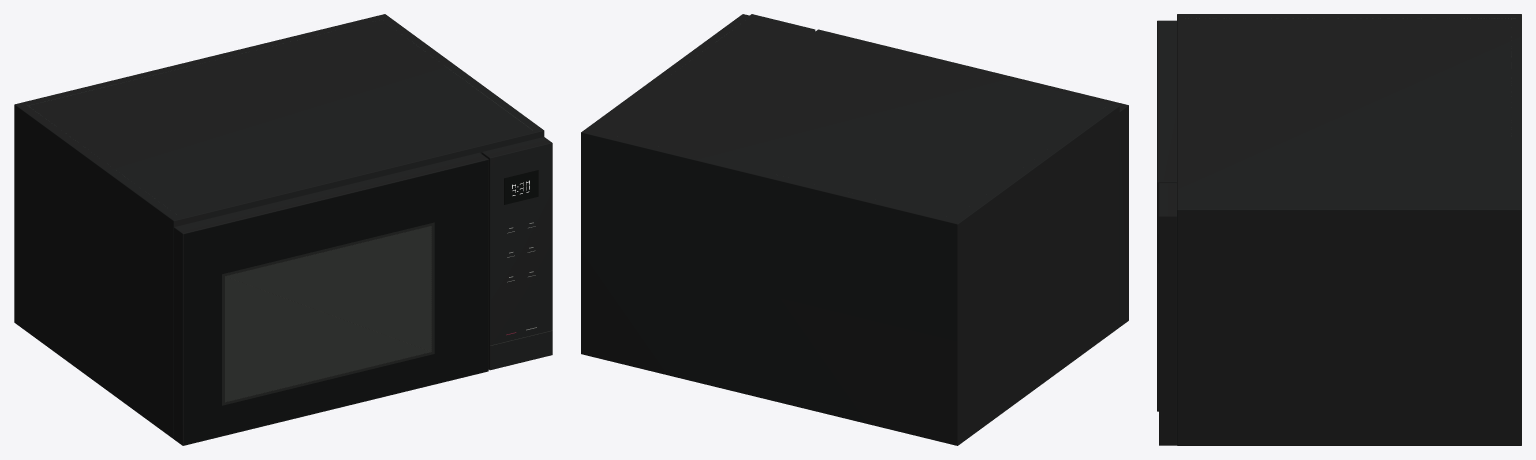
File: MW30BDN.glb
The picture shows the model from 3 angles, left to right: view 1: azimuth 30°, elevation 25°; view 2: azimuth 150°, elevation 25°; view 3: azimuth 270°, elevation 25°; orthographic projection. The views are drawn at different scales.
Visible parts, largest first — view 1: BodyShell, FullDoorGlass, WindowMesh, ControlPanel, DoorBody, WindowRim, ControlDisplay; view 2: BodyShell, DoorBody; view 3: BodyShell, ControlPanel, DoorBody.
Boxes of the visible parts, x1=… form: BodyShell: x1=14, y1=14, x2=544, y2=438; FullDoorGlass: x1=183, y1=160, x2=488, y2=444; WindowMesh: x1=225, y1=226, x2=431, y2=402; ControlPanel: x1=481, y1=137, x2=552, y2=370; DoorBody: x1=174, y1=152, x2=488, y2=445; WindowRim: x1=222, y1=222, x2=434, y2=405; ControlDisplay: x1=504, y1=170, x2=538, y2=204; BodyShell: x1=581, y1=14, x2=1119, y2=445; DoorBody: x1=815, y1=29, x2=1128, y2=326; BodyShell: x1=1177, y1=14, x2=1521, y2=445; ControlPanel: x1=1159, y1=183, x2=1176, y2=445; DoorBody: x1=1157, y1=20, x2=1176, y2=411.
Bounding box in the file's own units: 0.508 × 0.29 × 0.4.
Materials: 12 (1 with a texture image).
